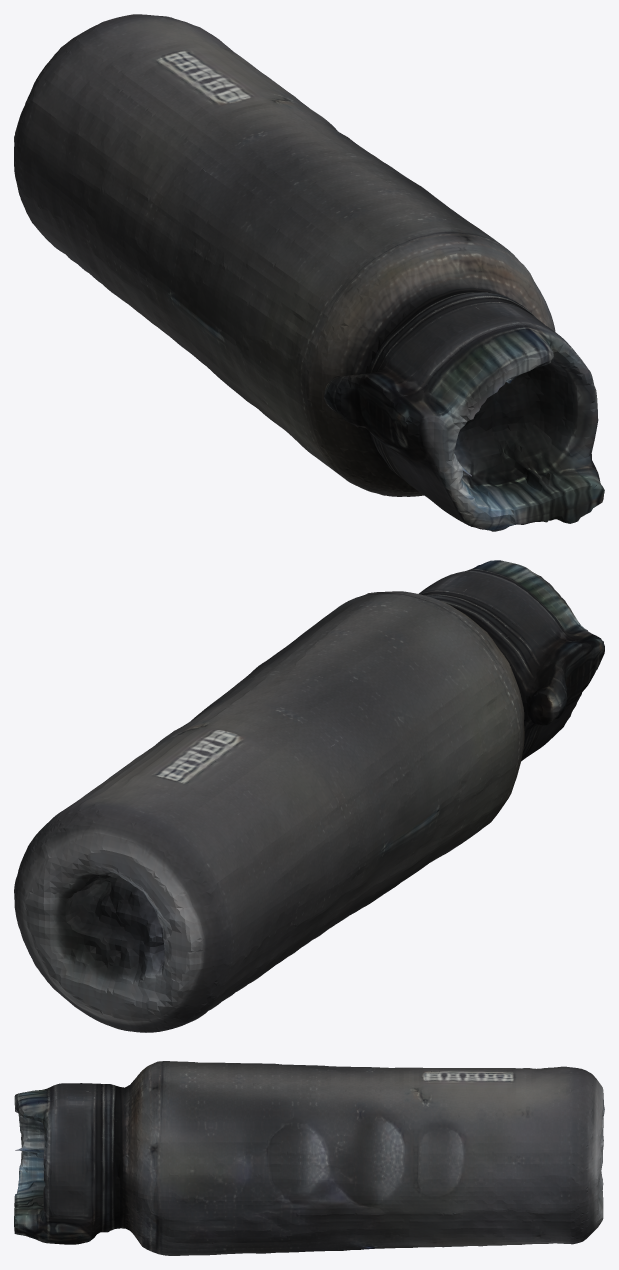
File: big_bottle.obj
The picture shows the model from 3 angles, top to bottom: view 1: azimuth 30°, elevation 25°; view 2: azimuth 150°, elevation 25°; view 3: azimuth 270°, elevation 25°; orthographic projection. The views are drawn at different scales.
Size of the model in its own units: 0.6735 by 0.6563 by 1.98.
Materials: 1 (1 with a texture image).
